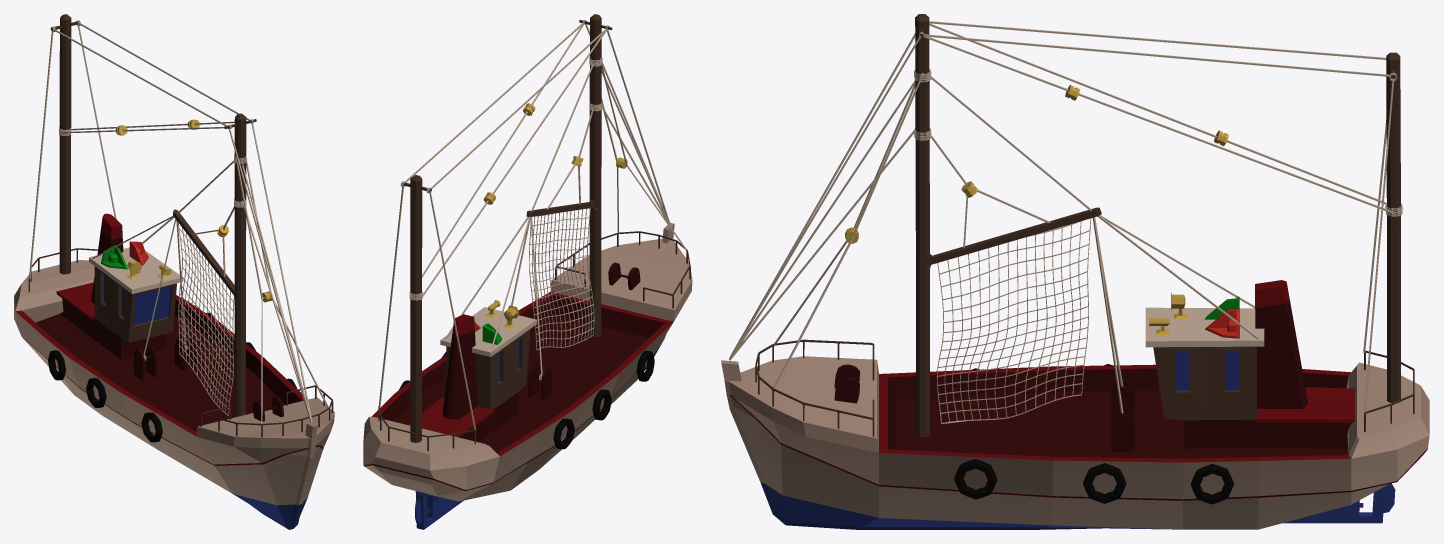
The model's file is BoatLvl3_V1.1.fbx.
3 renders of one model, left to right at view 1: azimuth 30°, elevation 25°; view 2: azimuth 150°, elevation 25°; view 3: azimuth 270°, elevation 25°, orthographic. The views are drawn at different scales.
Parts seen in each view (by area): view 1: Coque, Cables, Net, Pole front, Pole front.001, Fence front, Holder.001, Holder, safety boy.005, Anchor holder, safety boy.004, Light_Right (+1 smaller); view 2: Coque, Cables, Pole front, Net, Pole front.001, Fence front, Holder.001, Anchor holder, safety boy.003, safety boy.004, safety boy.005, Fence back; view 3: Coque, Cables, Net, Pole front, Pole front.001, Fence front, Holder, safety boy, safety boy.001, safety boy.002, Anchor holder.
Boxes of the visible parts, bbox=[...] form: Coque: bbox=[14, 213, 334, 529]; Cables: bbox=[29, 22, 328, 423]; Net: bbox=[178, 222, 234, 416]; Pole front: bbox=[173, 113, 256, 417]; Pole front.001: bbox=[51, 14, 80, 274]; Fence front: bbox=[200, 385, 333, 437]; Holder.001: bbox=[133, 346, 156, 380]; Holder: bbox=[174, 336, 197, 370]; safety boy.005: bbox=[141, 412, 162, 442]; Anchor holder: bbox=[253, 396, 283, 421]; safety boy.004: bbox=[86, 378, 106, 407]; Light_Right: bbox=[101, 245, 127, 269]; Coque: bbox=[363, 222, 692, 529]; Cables: bbox=[378, 22, 686, 430]; Pole front: bbox=[526, 14, 612, 337]; Net: bbox=[529, 208, 594, 350]; Pole front.001: bbox=[403, 175, 431, 442]; Fence front: bbox=[555, 231, 690, 308]; Holder.001: bbox=[528, 365, 552, 400]; Anchor holder: bbox=[608, 262, 640, 290]; safety boy.003: bbox=[553, 418, 574, 449]; safety boy.004: bbox=[592, 389, 611, 420]; safety boy.005: bbox=[636, 351, 654, 381]; Fence back: bbox=[378, 406, 475, 451]; Coque: bbox=[721, 280, 1429, 529]; Cables: bbox=[729, 21, 1394, 413]; Net: bbox=[936, 218, 1091, 423]; Pole front: bbox=[915, 14, 1101, 436]; Pole front.001: bbox=[1386, 52, 1400, 403]; Fence front: bbox=[755, 339, 874, 436]; Holder: bbox=[1111, 405, 1134, 451]; safety boy: bbox=[1190, 463, 1233, 504]; safety boy.001: bbox=[1083, 463, 1126, 503]; safety boy.002: bbox=[954, 459, 997, 499]; Anchor holder: bbox=[834, 364, 859, 403].
Bounding box in the file's own units: 317 × 901 × 721.
